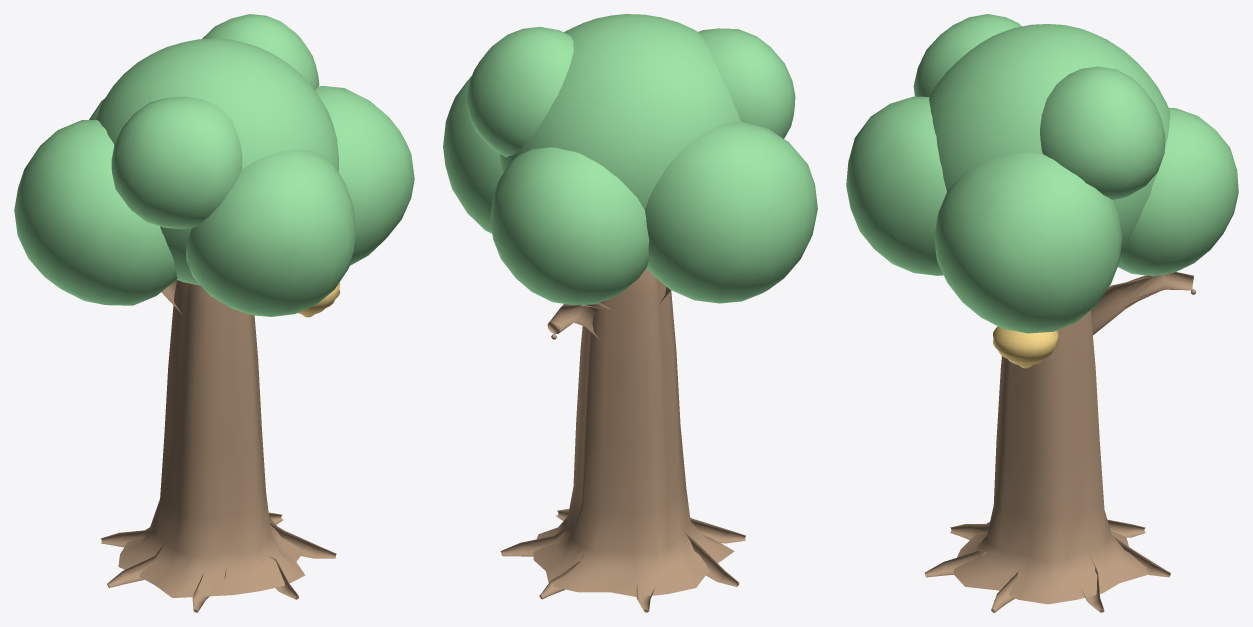
File: HoneyTree.glb
3 views of the same model, side by side, from view 1: azimuth 30°, elevation 25°; view 2: azimuth 150°, elevation 25°; view 3: azimuth 270°, elevation 25° (orthographic). The views are drawn at different scales.
Visible parts, largest first — view 1: Leaves, Trunk; view 2: Leaves, Trunk; view 3: Leaves, Trunk, Hive.
Part boxes in pixels (left/top/right/bottom): Leaves: left=14, top=14, right=414, bottom=316; Trunk: left=101, top=280, right=336, bottom=612; Leaves: left=443, top=14, right=817, bottom=305; Trunk: left=500, top=269, right=745, bottom=612; Leaves: left=846, top=14, right=1238, bottom=333; Trunk: left=924, top=272, right=1193, bottom=612; Hive: left=993, top=326, right=1058, bottom=368.
Size of the model in its own units: 42.03 by 57.93 by 39.1.
